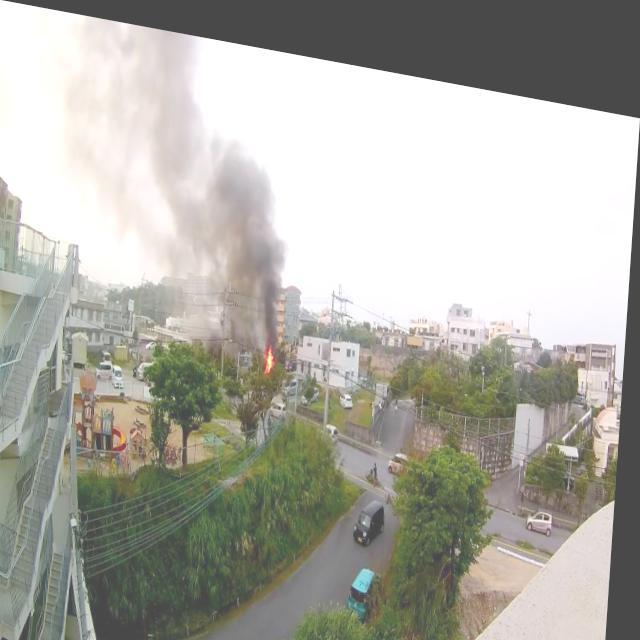Fire: (268, 336, 280, 362)
